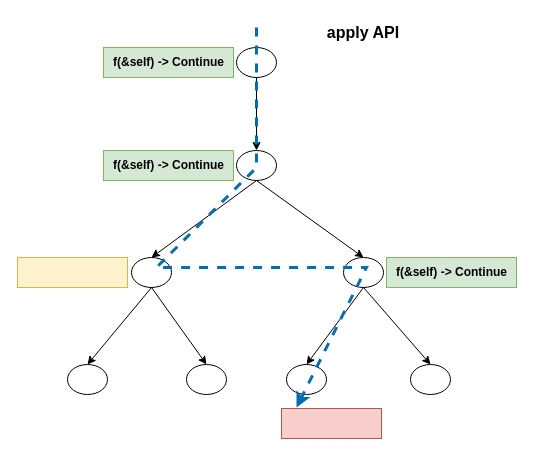
Image size: 534x456. Some labels were removed from this diagram. The centre of each missing label's shape, as x and y in pixels:
f(&self) -> Jump: (x=72, y=272)
f(&self) -> Stop: (x=331, y=423)
